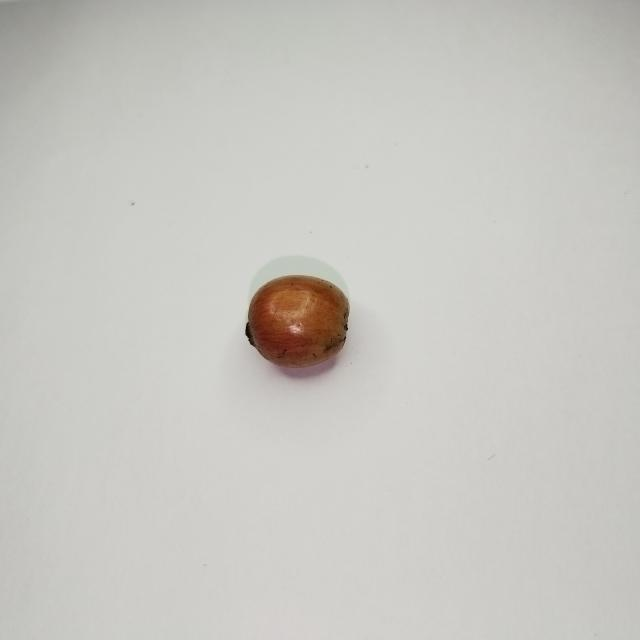Sano: (248, 277, 346, 366)
